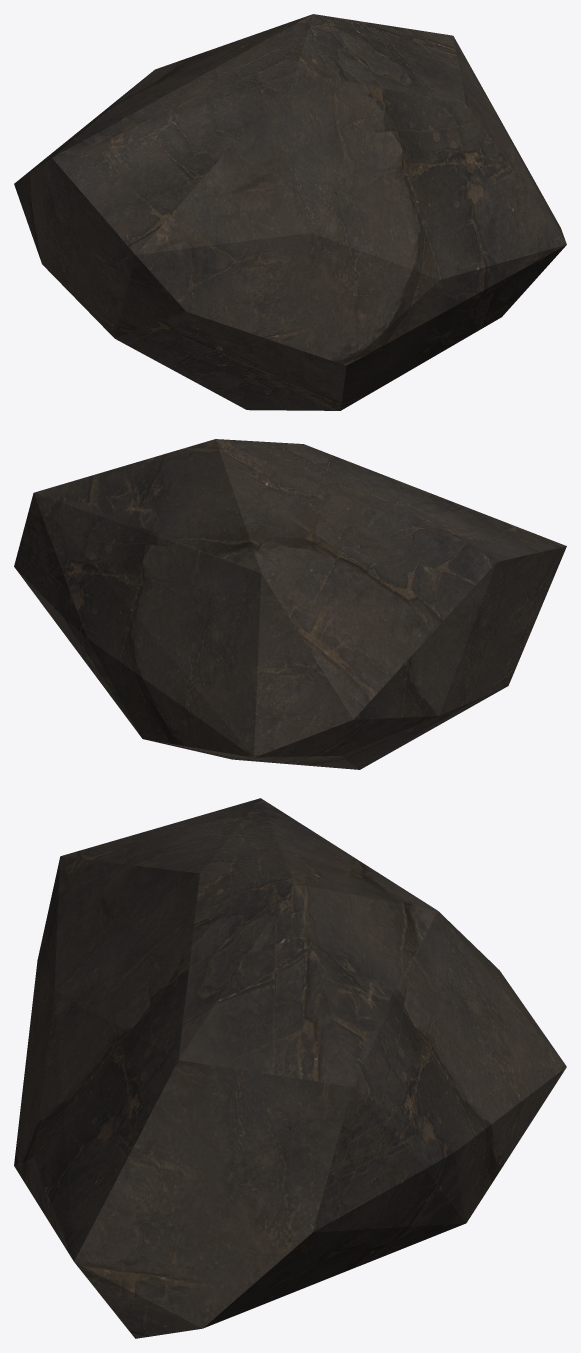
The model's file is SM_Item_flint.gltf.
3 renders of one model, top to bottom at view 1: azimuth 30°, elevation 25°; view 2: azimuth 150°, elevation 25°; view 3: azimuth 270°, elevation 25°, orthographic. The views are drawn at different scales.
Parts seen in each view (by area): view 1: SM_Item_flint; view 2: SM_Item_flint; view 3: SM_Item_flint.
Part boxes in pixels (x1,y1,x2,y2): SM_Item_flint: (14,14,566,410); SM_Item_flint: (14,439,566,769); SM_Item_flint: (14,798,566,1338).
Bounding box in the file's own units: 0.0975 × 0.0652 × 0.0741.
Materials: 1 (1 with a texture image).
